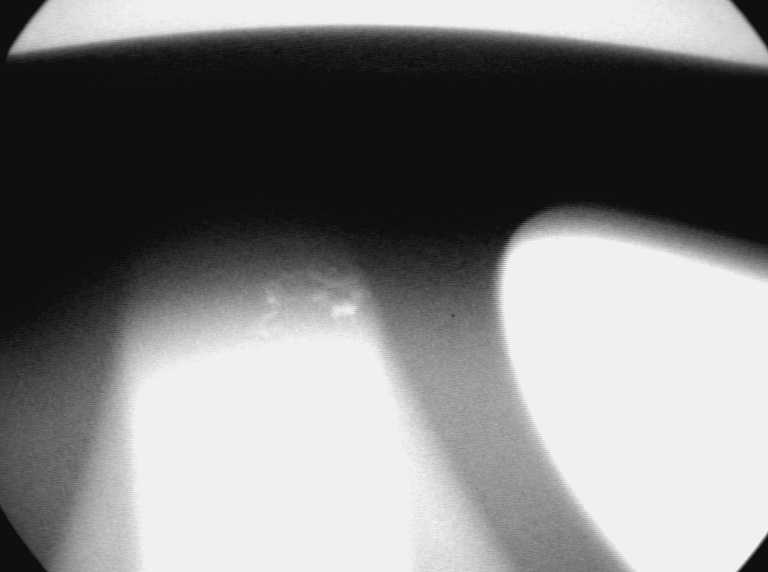defect: (251, 262, 378, 341)
